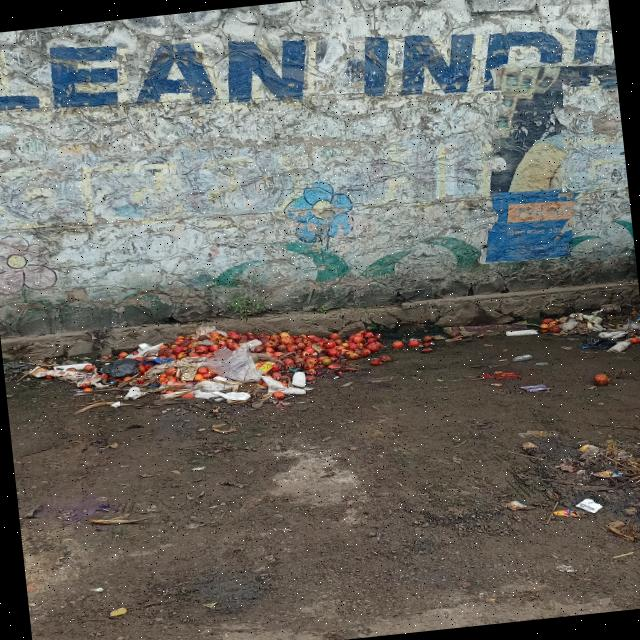garbage: (35, 300, 440, 434)
